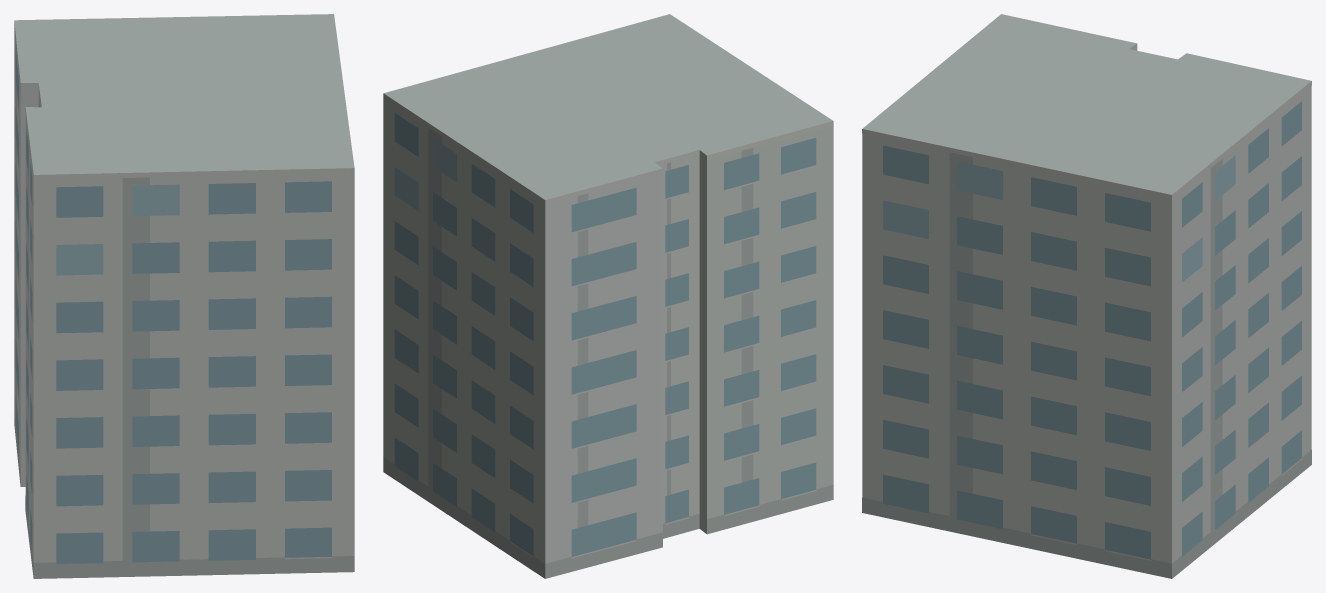
Rendered from survey-upis-32560298.glb.
The picture shows the model from 3 angles, left to right: view 1: azimuth 30°, elevation 25°; view 2: azimuth 150°, elevation 25°; view 3: azimuth 270°, elevation 25°; orthographic projection. The views are drawn at different scales.
Visible parts, largest first — view 1: survey-upis-32560298.tmp; view 2: survey-upis-32560298.tmp; view 3: survey-upis-32560298.tmp.
Boxes of the visible parts, bbox=[...] form: survey-upis-32560298.tmp: bbox=[14, 14, 354, 578]; survey-upis-32560298.tmp: bbox=[383, 14, 833, 578]; survey-upis-32560298.tmp: bbox=[862, 14, 1311, 578].
Size of the model in its own units: 19.72 by 19.5 by 20.71.
